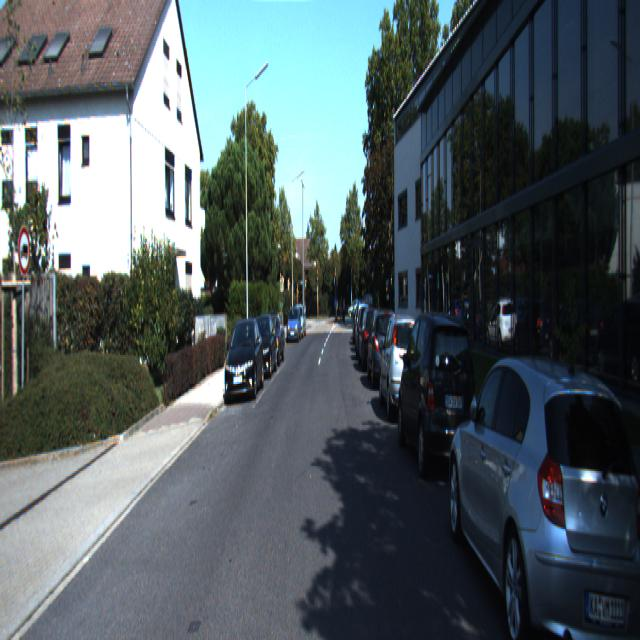Car: (446, 336, 640, 638), (397, 306, 480, 488), (378, 311, 428, 426), (223, 317, 264, 405), (367, 307, 402, 394), (246, 312, 278, 381), (358, 304, 387, 374), (259, 312, 286, 367), (286, 306, 302, 343)
